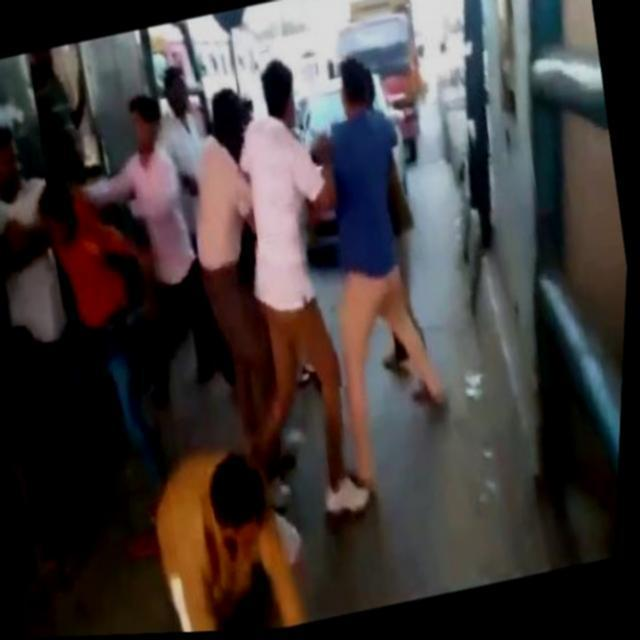fight: (0, 69, 239, 477)
